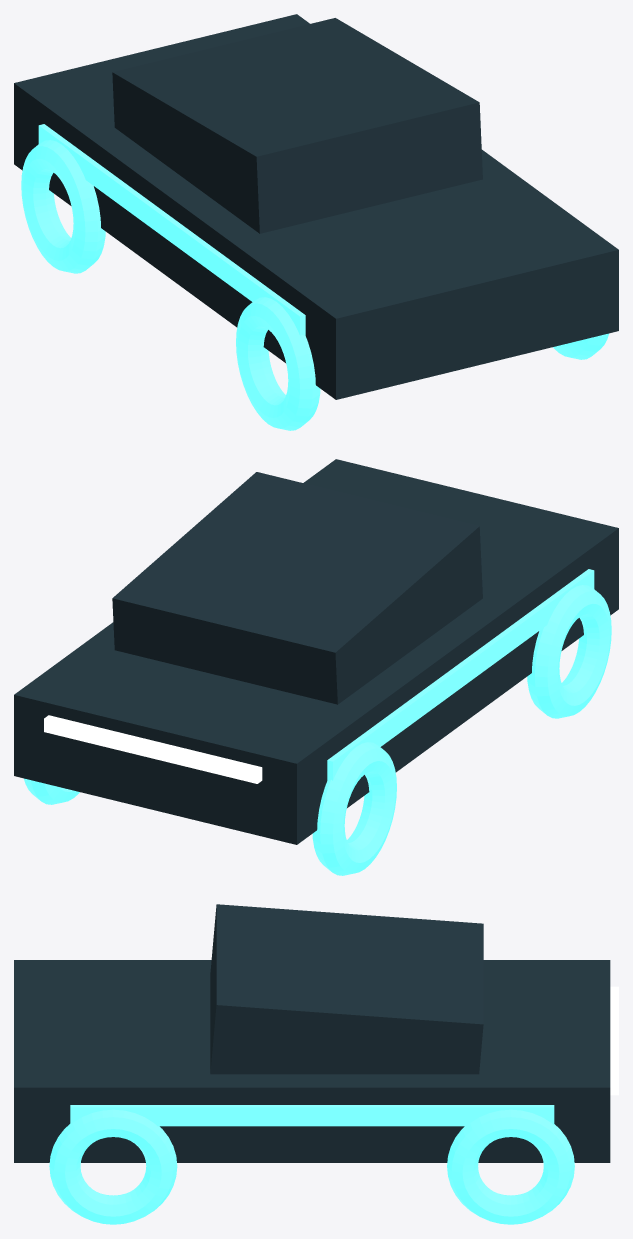
File: civilian-runner.glb
3 renders of one model, top to bottom at view 1: azimuth 30°, elevation 25°; view 2: azimuth 150°, elevation 25°; view 3: azimuth 270°, elevation 25°, orthographic. The views are drawn at different scales.
Parts seen in each view (by area): view 1: body, cabin, wheel_0_1, wheel_0_0, left_strip, wheel_1_1; view 2: body, cabin, wheel_0_0, wheel_0_1, left_strip, rear_light, wheel_1_0; view 3: body, cabin, wheel_1_1, wheel_1_0, right_strip, rear_light.
Part boxes in pixels (bbox=[...]): body: bbox=[14, 14, 618, 399]; cabin: bbox=[112, 18, 482, 233]; wheel_0_1: bbox=[236, 297, 320, 430]; wheel_0_0: bbox=[21, 140, 105, 273]; left_strip: bbox=[38, 124, 305, 335]; wheel_1_1: bbox=[553, 333, 609, 359]; body: bbox=[14, 459, 618, 844]; cabin: bbox=[112, 472, 482, 704]; wheel_0_0: bbox=[312, 742, 396, 875]; wheel_0_1: bbox=[527, 585, 611, 718]; left_strip: bbox=[327, 569, 594, 780]; rear_light: bbox=[44, 715, 262, 783]; wheel_1_0: bbox=[23, 778, 79, 804]; body: bbox=[14, 960, 610, 1162]; cabin: bbox=[210, 904, 483, 1074]; wheel_1_1: bbox=[49, 1109, 177, 1224]; wheel_1_0: bbox=[447, 1109, 574, 1224]; right_strip: bbox=[70, 1105, 554, 1126]; rear_light: bbox=[610, 986, 618, 1095].
Bounding box in the file's own units: 1.98 × 1.3 × 3.5.
